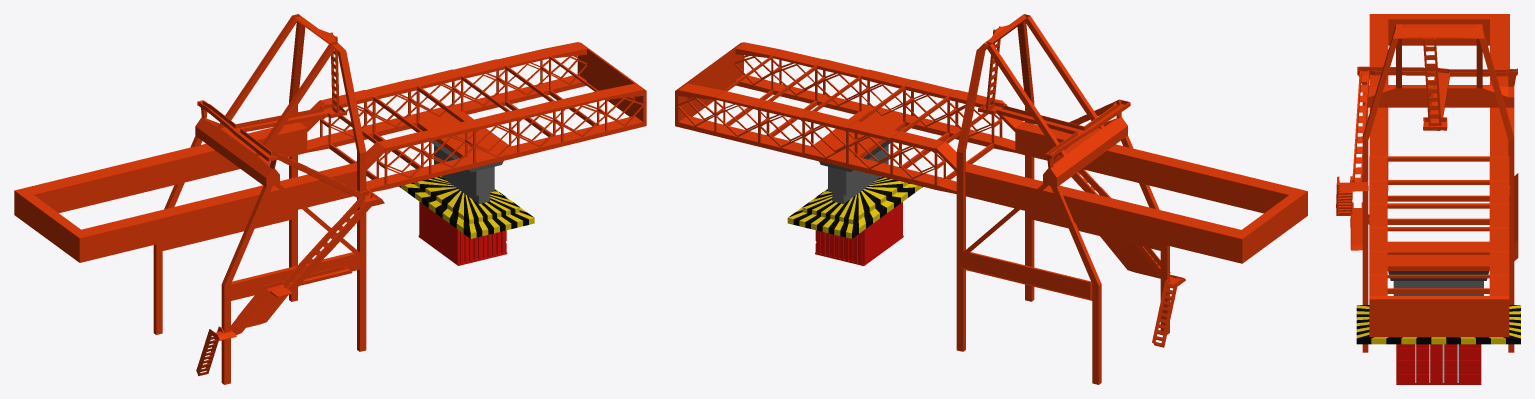
File: sts.glb
The picture shows the model from 3 angles, left to right: view 1: azimuth 30°, elevation 25°; view 2: azimuth 150°, elevation 25°; view 3: azimuth 270°, elevation 25°; orthographic projection. The views are drawn at different scales.
Parts seen in each view (by area): view 1: Cube.001; view 2: Cube.001; view 3: Cube.001.
Boxes of the visible parts, bbox=[...] form: Cube.001: bbox=[14, 14, 646, 384]; Cube.001: bbox=[675, 14, 1307, 384]; Cube.001: bbox=[1336, 14, 1520, 384].
Bounding box in the file's own units: 1199 × 604 × 317.
